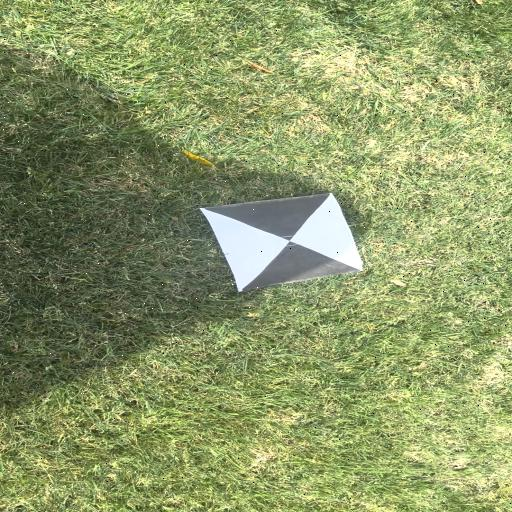target: (200, 192, 363, 291)
